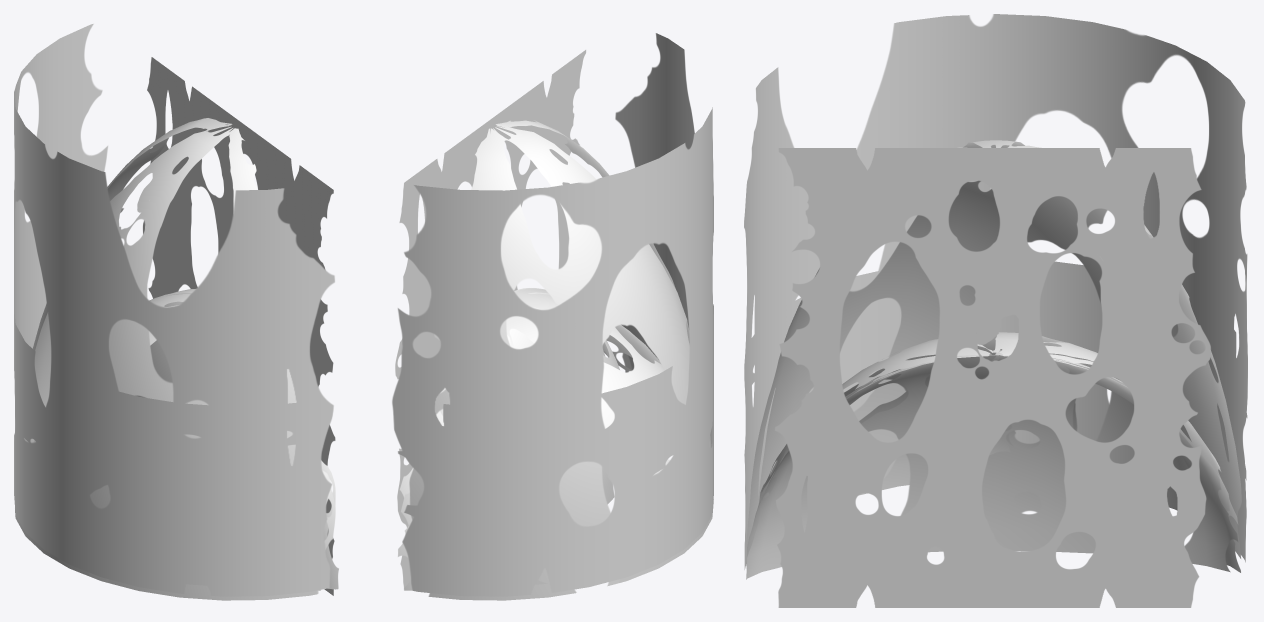
File: EN_WaterFoams_GLTF.gltf
3 views of the same model, side by side, from view 1: azimuth 30°, elevation 25°; view 2: azimuth 150°, elevation 25°; view 3: azimuth 270°, elevation 25° (orthographic). The views are drawn at different scales.
Visible parts, largest first — view 1: EN_WaterFoam_03, EN_WaterFoam_02, EN_WaterFoam_01, EN_WaterFoam_07, EN_WaterFoam_06, EN_WaterFoam_04, EN_WaterFoam_05; view 2: EN_WaterFoam_03, EN_WaterFoam_07, EN_WaterFoam_02, EN_WaterFoam_01, EN_WaterFoam_04, EN_WaterFoam_06; view 3: EN_WaterFoam_01, EN_WaterFoam_03, EN_WaterFoam_07, EN_WaterFoam_05, EN_WaterFoam_02, EN_WaterFoam_04, EN_WaterFoam_06.
Boxes of the visible parts, x1,y1,x2,y2 form: EN_WaterFoam_03: (14, 24, 334, 596); EN_WaterFoam_02: (14, 267, 297, 586); EN_WaterFoam_01: (143, 57, 335, 595); EN_WaterFoam_07: (15, 118, 316, 600); EN_WaterFoam_06: (135, 290, 335, 590); EN_WaterFoam_04: (15, 290, 331, 594); EN_WaterFoam_05: (180, 289, 338, 589); EN_WaterFoam_03: (392, 33, 713, 596); EN_WaterFoam_07: (409, 120, 713, 600); EN_WaterFoam_02: (398, 249, 713, 586); EN_WaterFoam_01: (395, 50, 586, 588); EN_WaterFoam_04: (440, 288, 712, 586); EN_WaterFoam_06: (401, 288, 619, 590); EN_WaterFoam_01: (775, 148, 1210, 607); EN_WaterFoam_03: (744, 14, 1247, 569); EN_WaterFoam_07: (746, 140, 1241, 558); EN_WaterFoam_05: (746, 353, 1238, 579); EN_WaterFoam_02: (746, 261, 1247, 545); EN_WaterFoam_04: (746, 332, 1238, 567); EN_WaterFoam_06: (753, 350, 1240, 572).
Size of the model in its own units: 1 by 2.12 by 2.
Materials: 1 (1 with a texture image).
